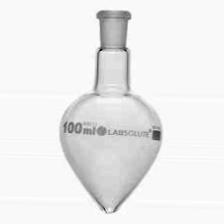Pear shaped flask: (55, 8, 162, 216)
